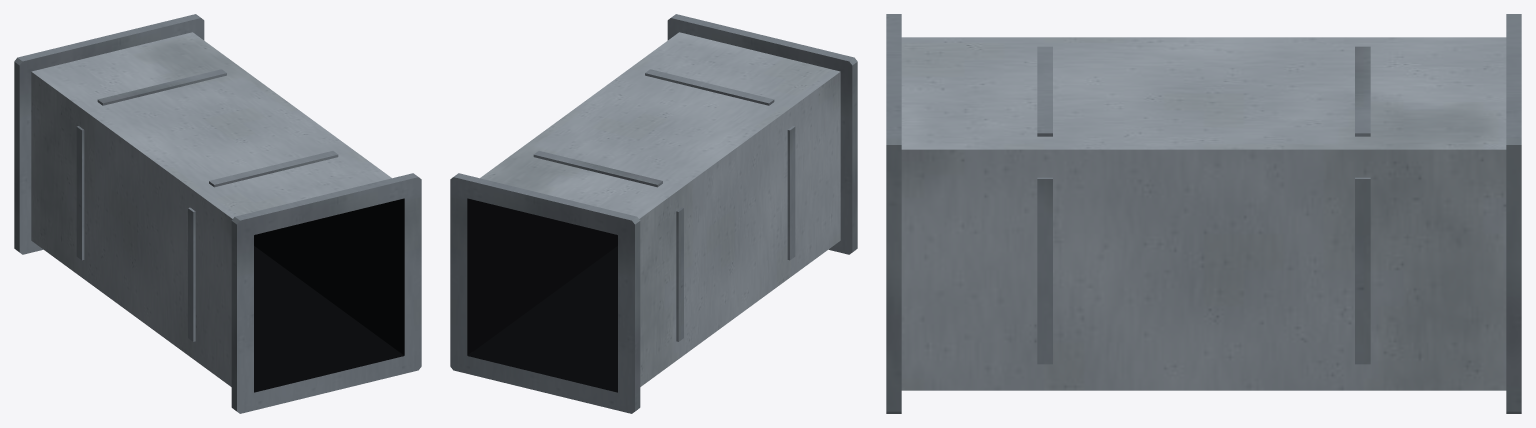
Rendered from duct_long.glb.
3 views of the same model, side by side, from view 1: azimuth 30°, elevation 25°; view 2: azimuth 150°, elevation 25°; view 3: azimuth 270°, elevation 25° (orthographic). The views are drawn at different scales.
Parts seen in each view (by area): view 1: Body.001; view 2: Body.001; view 3: Body.001.
Part boxes in pixels (x1=…): Body.001: x1=14, y1=14, x2=421, y2=413; Body.001: x1=450, y1=14, x2=857, y2=413; Body.001: x1=886, y1=14, x2=1521, y2=413.
Size of the model in its own units: 0.238 by 0.238 by 0.497.
Materials: 3 (2 with a texture image).
